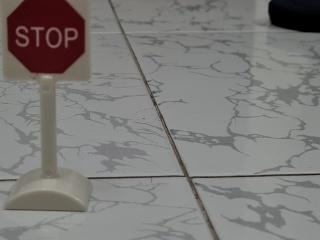stop: (0, 0, 95, 89)
